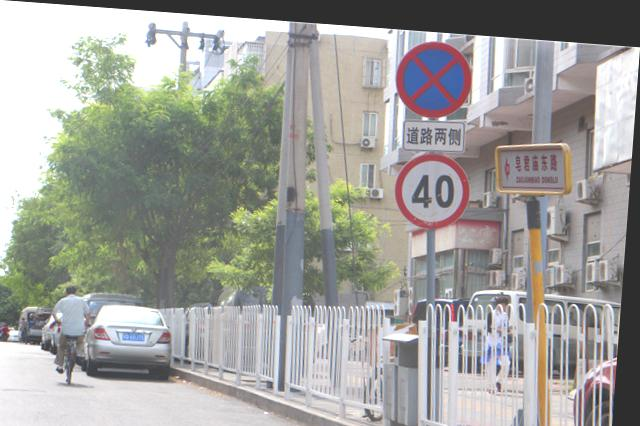limit40: (396, 143, 476, 225)
